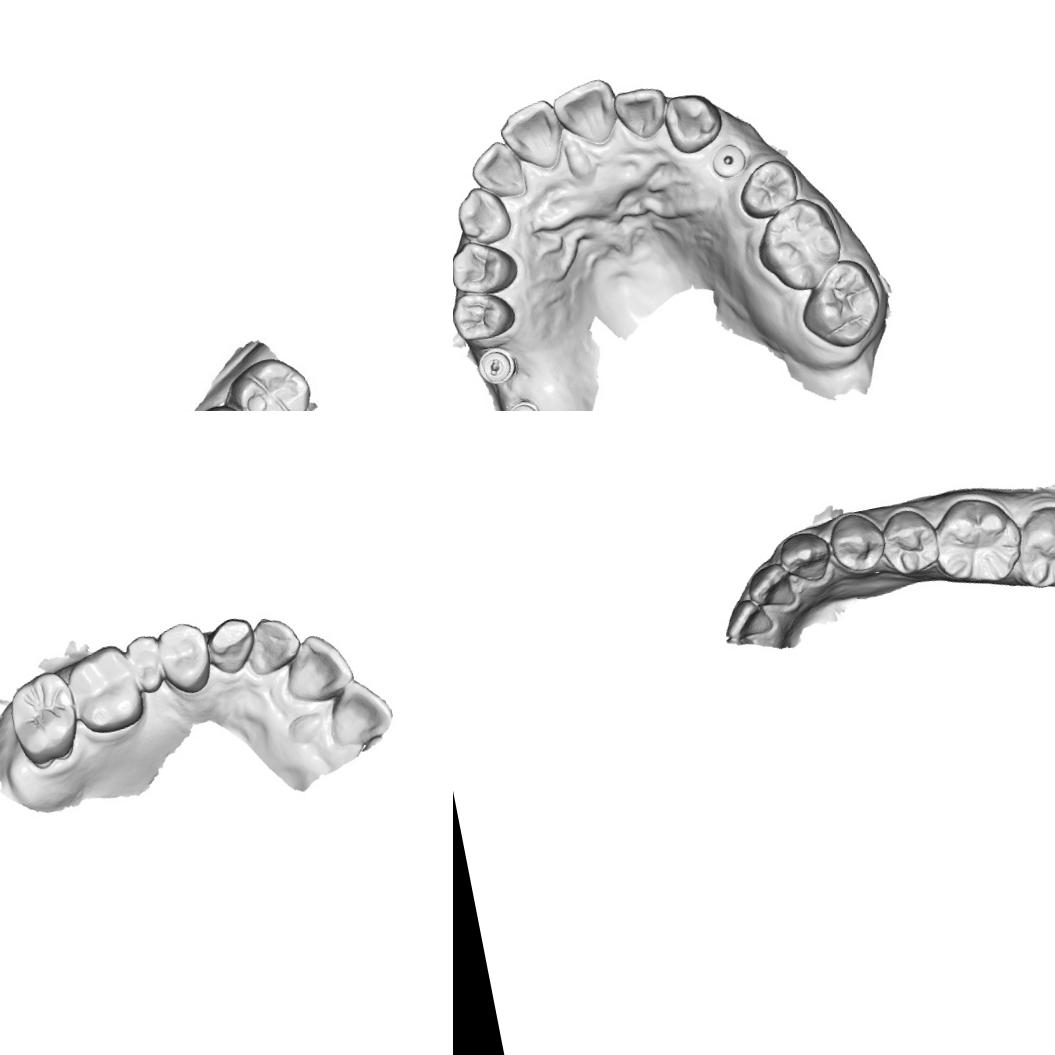canine: (658, 86, 727, 158), (453, 180, 515, 248), (775, 526, 837, 588), (202, 612, 260, 678)
implant: (705, 137, 749, 184)
implant_minus: (474, 345, 518, 389), (503, 400, 544, 411)
incisor: (277, 626, 357, 707), (320, 672, 398, 750), (493, 95, 568, 176), (549, 76, 622, 152), (463, 134, 531, 202), (240, 610, 305, 677), (608, 81, 674, 145), (741, 558, 798, 614), (718, 592, 776, 642)
molar: (747, 190, 852, 298), (925, 488, 1029, 592), (792, 252, 890, 355), (60, 640, 148, 740), (2, 666, 84, 770), (227, 351, 315, 411), (1003, 496, 1055, 595)
premolar: (151, 617, 216, 698), (876, 503, 944, 579), (730, 154, 802, 224), (824, 504, 890, 579), (453, 232, 521, 300), (453, 284, 518, 346), (121, 631, 167, 697)
